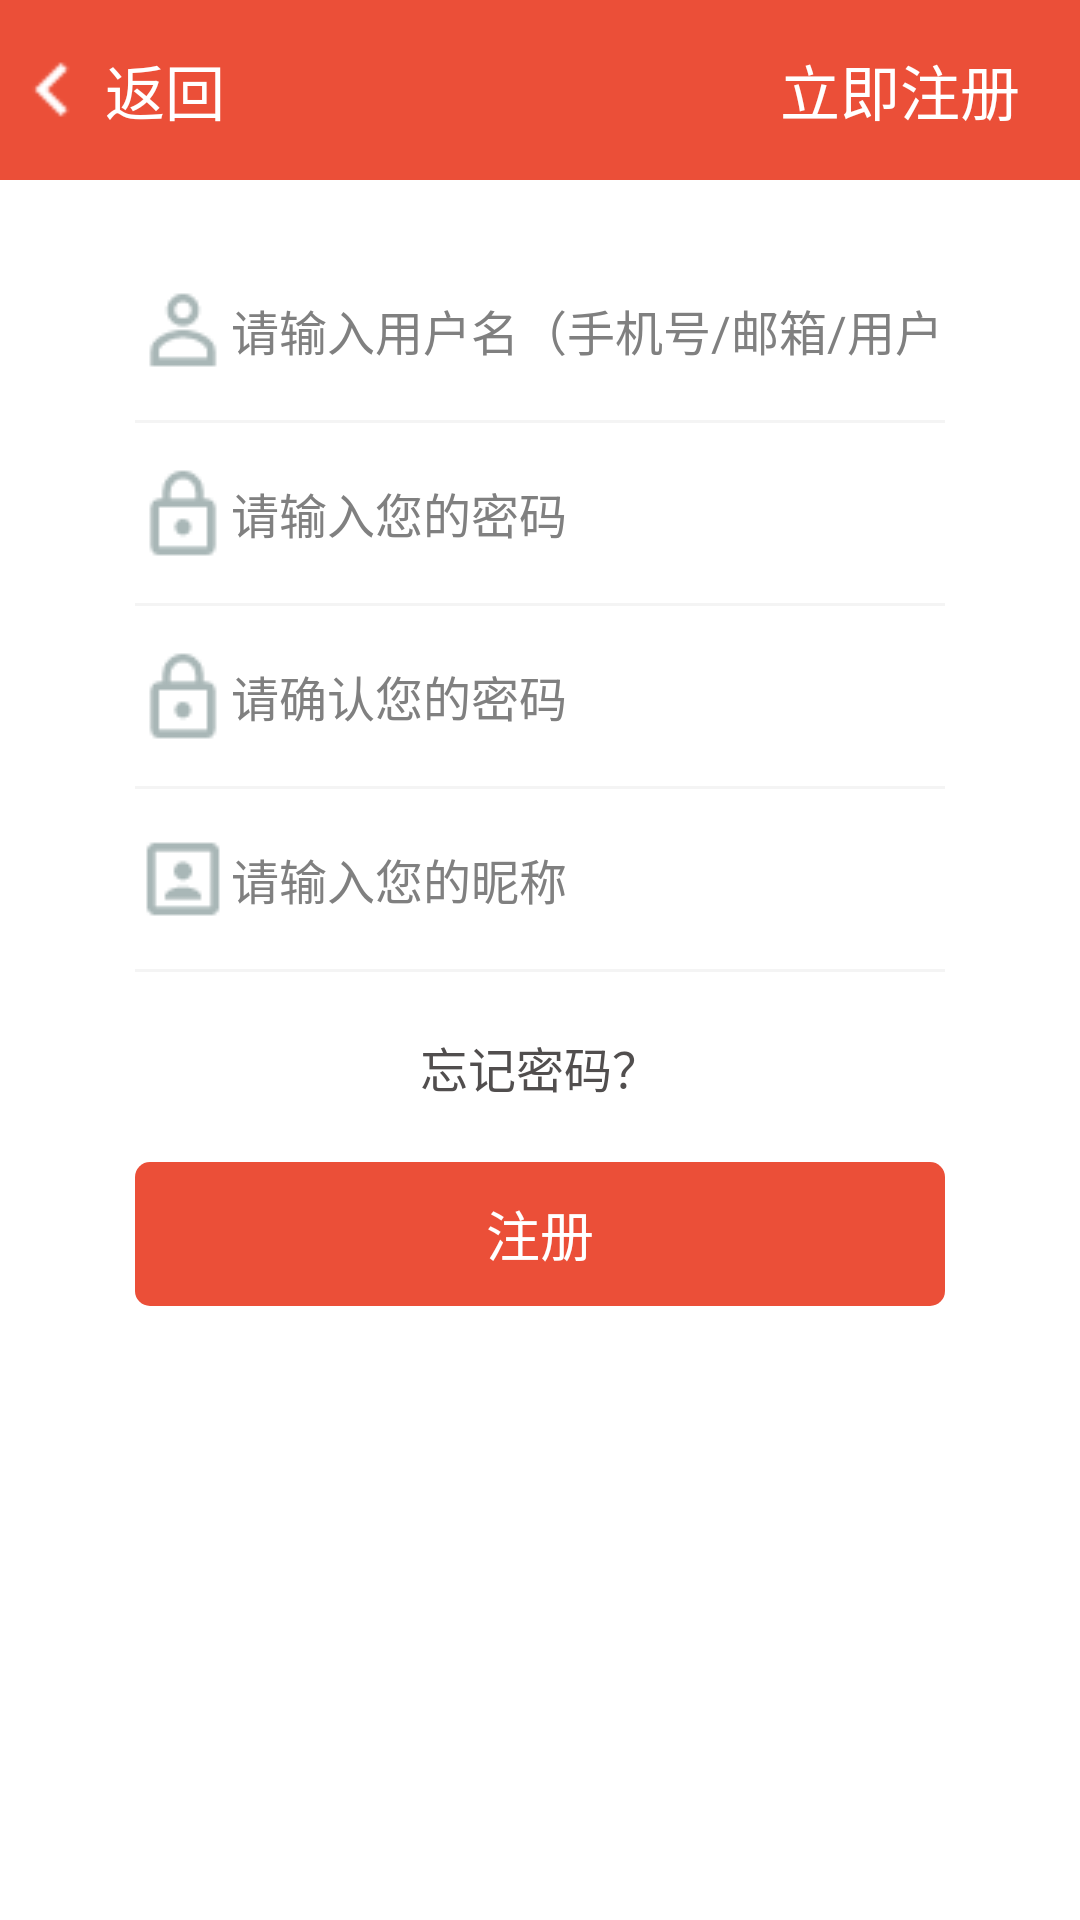

Icon bounding boxes for this 1080w x 1920h phone screenshot, format (x1, y1, x2, y2):
left: (35, 62, 68, 117)
nickname: (146, 842, 220, 916)
password: (150, 470, 216, 556), (150, 653, 216, 739)
